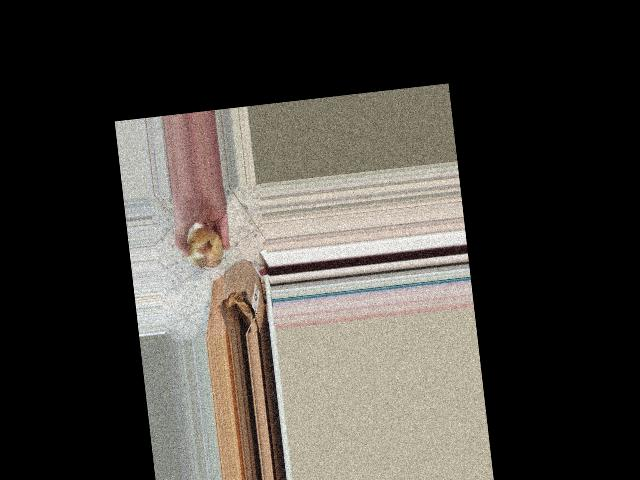onion: (180, 221, 225, 271)
